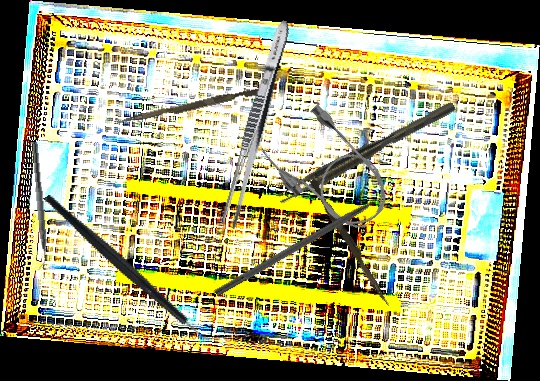Cannula: (254, 97, 404, 248)
Chopper: (43, 155, 222, 381), (23, 141, 51, 271)
Dressing Forceps: (218, 17, 295, 231)
Hook Surgical: (213, 183, 402, 299)
Pusher: (306, 178, 395, 308), (115, 84, 263, 130)
Tissue Forceps: (273, 100, 460, 207)
